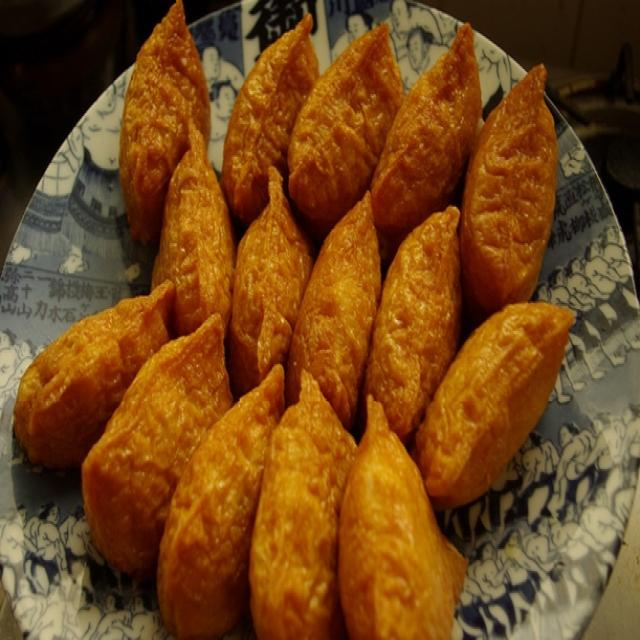寿司卷物: (5, 5, 617, 629)
